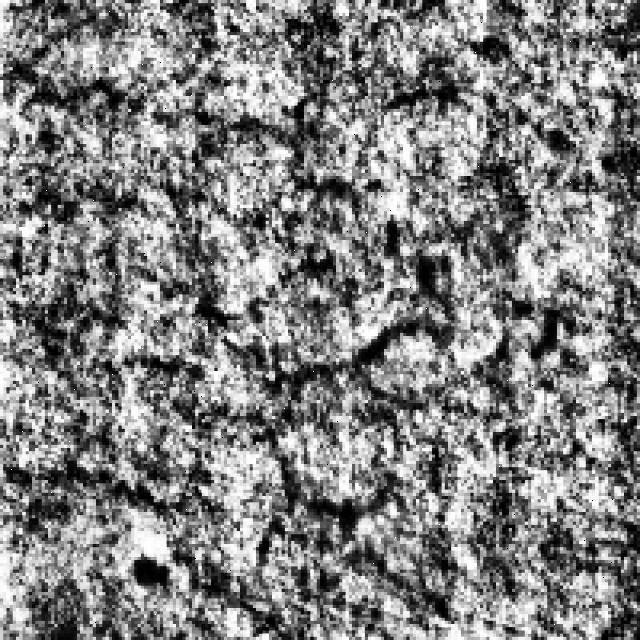Pitted_Surface: (102, 298, 493, 512), (125, 435, 461, 618)
